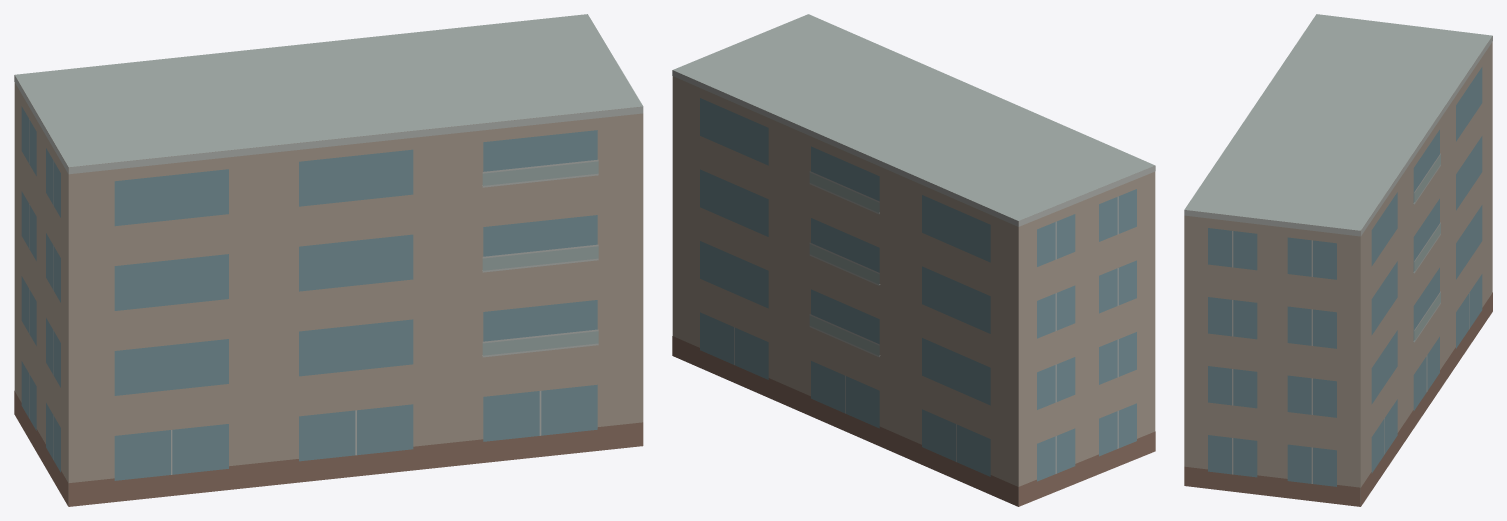
The model's file is survey-upis-32874204.glb.
3 renders of one model, left to right at view 1: azimuth 30°, elevation 25°; view 2: azimuth 150°, elevation 25°; view 3: azimuth 270°, elevation 25°, orthographic. The views are drawn at different scales.
Parts seen in each view (by area): view 1: survey-upis-32874204.tmp; view 2: survey-upis-32874204.tmp; view 3: survey-upis-32874204.tmp.
Boxes of the visible parts, bbox=[...] form: survey-upis-32874204.tmp: bbox=[14, 14, 643, 506]; survey-upis-32874204.tmp: bbox=[672, 14, 1155, 506]; survey-upis-32874204.tmp: bbox=[1184, 14, 1492, 506].
Size of the model in its own units: 19.88 by 11.8 by 11.96.
